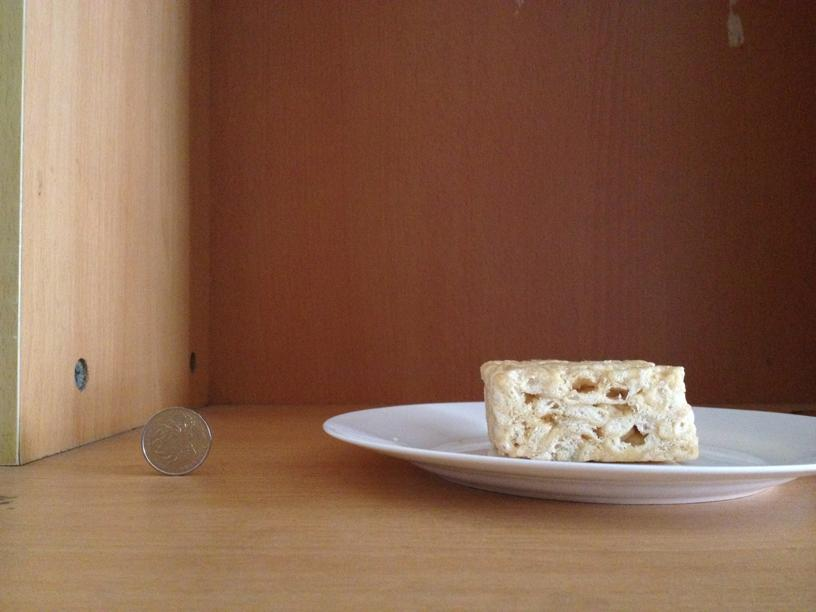coin: (134, 405, 214, 477)
sachima: (478, 354, 705, 467)
